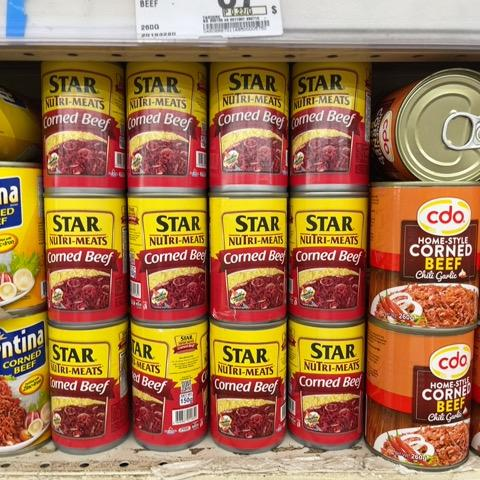canned-goods: (364, 312, 479, 472), (368, 174, 479, 333), (39, 57, 127, 202), (285, 190, 375, 330), (377, 61, 480, 183), (287, 59, 375, 195), (205, 190, 291, 329), (128, 317, 214, 456), (125, 55, 209, 196), (41, 193, 134, 320), (286, 316, 369, 457), (45, 318, 131, 454), (208, 313, 289, 457), (203, 61, 290, 194), (124, 193, 213, 323), (0, 303, 50, 461), (0, 163, 48, 318)
